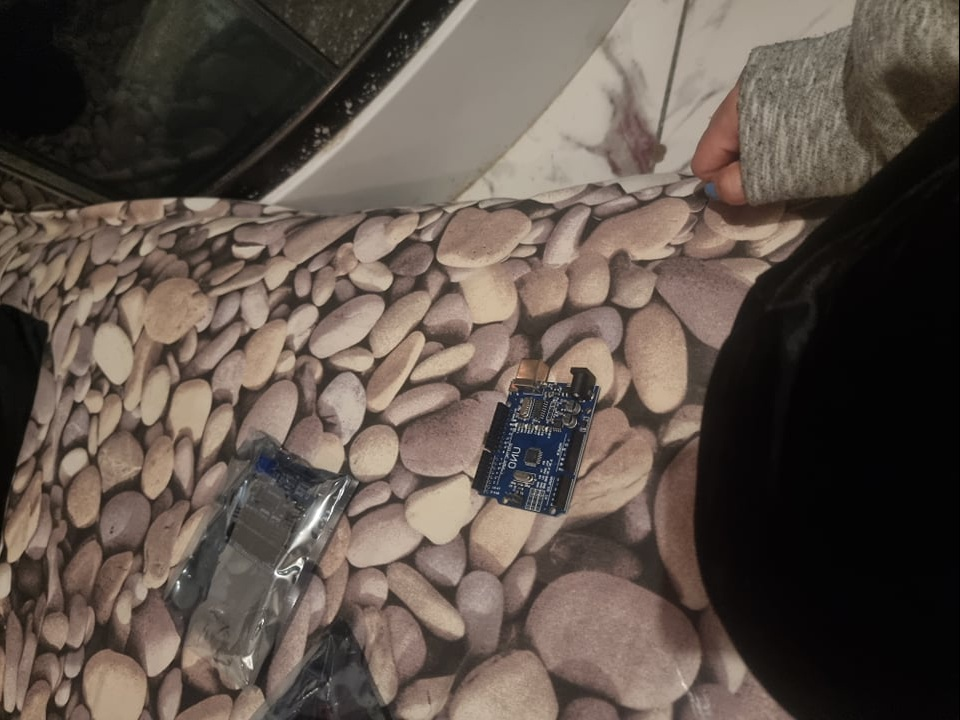UNO R3: (471, 358, 600, 521)
